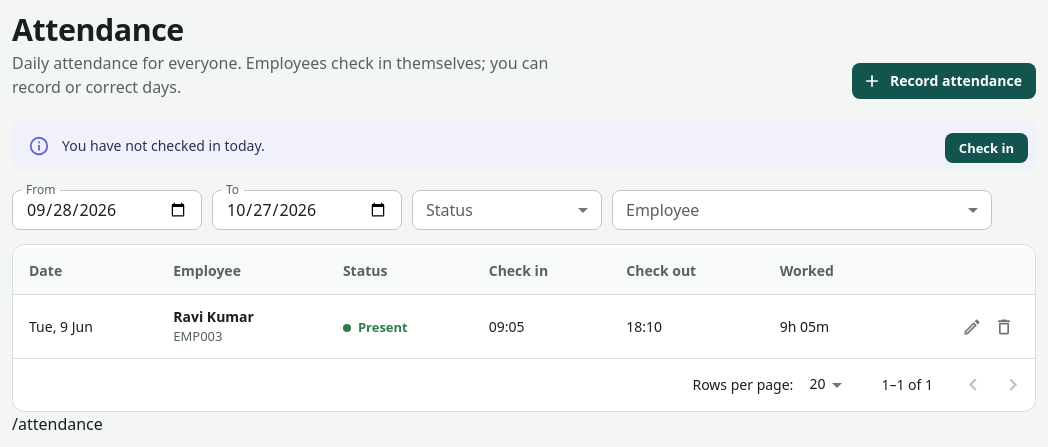
Test case: AttendancePage › flags an inverted date range instead of requesting it
expect the text "Ravi Kumar" is shown: met, box [173,308,254,326]
Type "2099-01-01" into the date field labelled "From" at (107, 210), box [12,190,202,230]
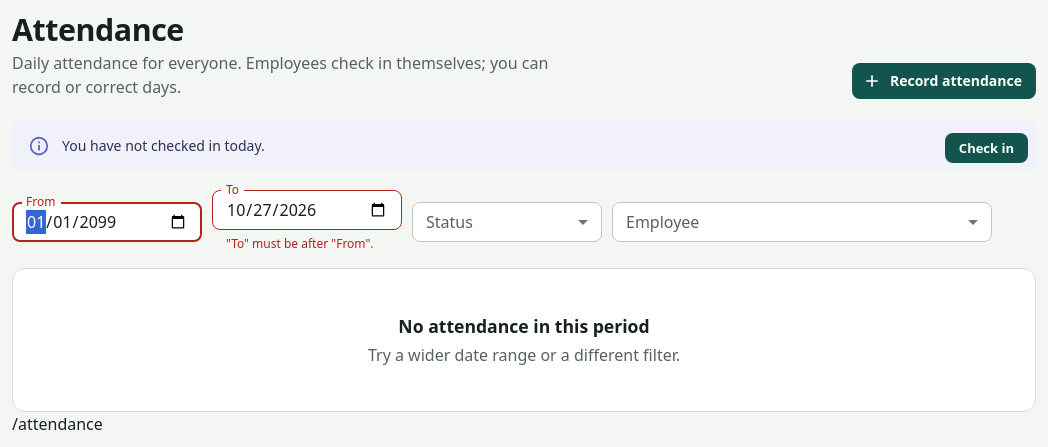
expect the text "\"To\" must be after \"From\"." is shown: met, box [226,234,388,254]
